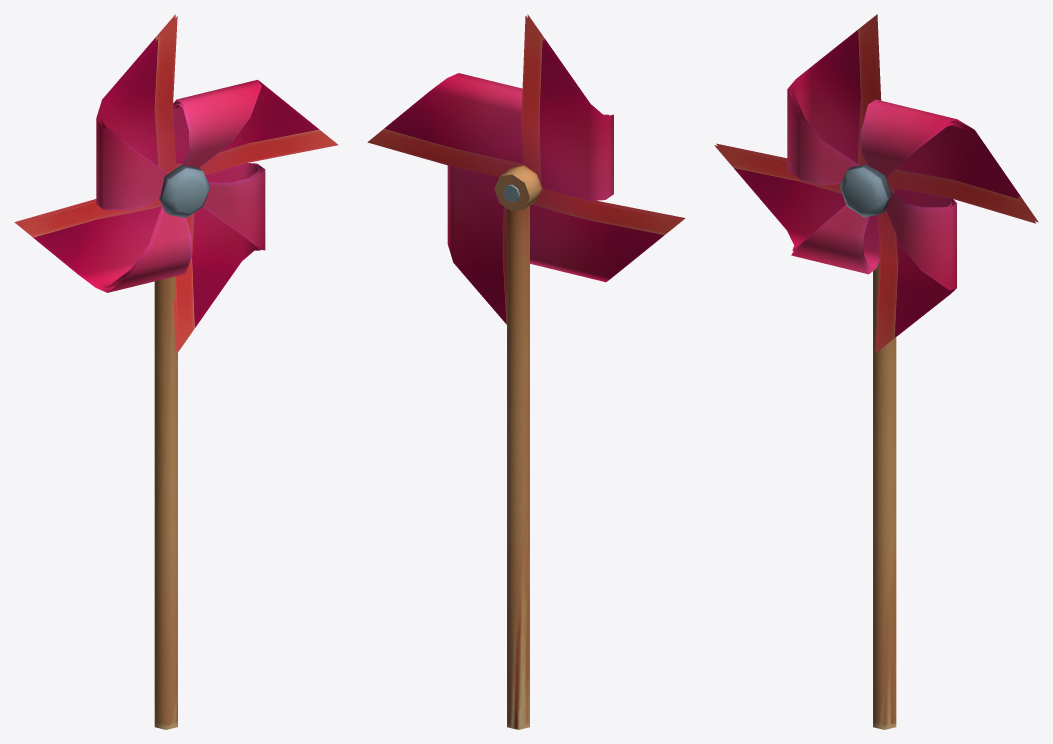
File: SE_Vane_03.fbx
3 views of the same model, side by side, from view 1: azimuth 30°, elevation 25°; view 2: azimuth 150°, elevation 25°; view 3: azimuth 330°, elevation 25° (orthographic).
Visible parts, largest first — view 1: SE_Vane_03; view 2: SE_Vane_03; view 3: SE_Vane_03.
Part boxes in pixels (x1,y1,x2,y2): SE_Vane_03: (14,14,338,729); SE_Vane_03: (367,14,685,729); SE_Vane_03: (714,14,1038,729).
Bounding box in the file's own units: 2.08 × 4.4 × 0.3684.
